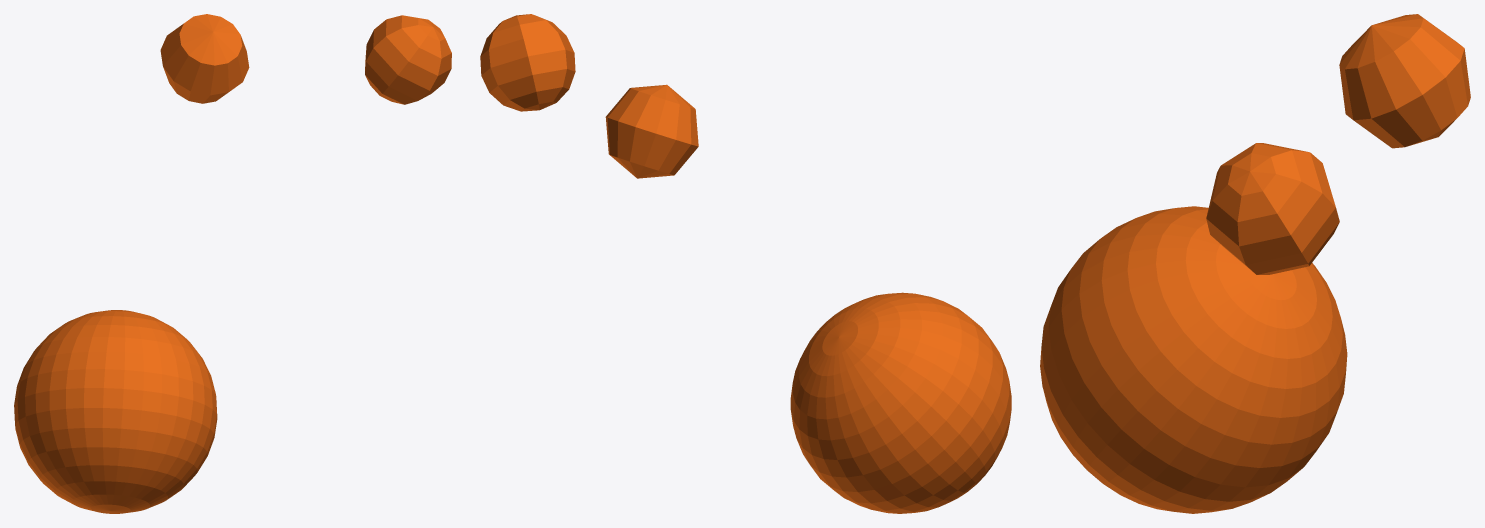
Rendered from spheres.gltf.
The picture shows the model from 3 angles, left to right: view 1: azimuth 30°, elevation 25°; view 2: azimuth 150°, elevation 25°; view 3: azimuth 270°, elevation 25°; orthographic projection. The views are drawn at different scales.
Parts seen in each view (by area): view 1: Sphere, Sphere.002, Sphere.001; view 2: Sphere, Sphere.002, Sphere.001; view 3: Sphere, Sphere.002, Sphere.001.
Boxes of the visible parts, x1,y1,x2,y2 form: Sphere: [14, 310, 217, 513]; Sphere.002: [365, 15, 451, 104]; Sphere.001: [160, 14, 249, 103]; Sphere: [790, 292, 1011, 513]; Sphere.002: [480, 14, 575, 111]; Sphere.001: [605, 84, 698, 178]; Sphere: [1040, 206, 1347, 513]; Sphere.002: [1206, 143, 1339, 274]; Sphere.001: [1339, 14, 1470, 148].
Bounding box in the file's own units: 2.26 × 1.92 × 1.26.
